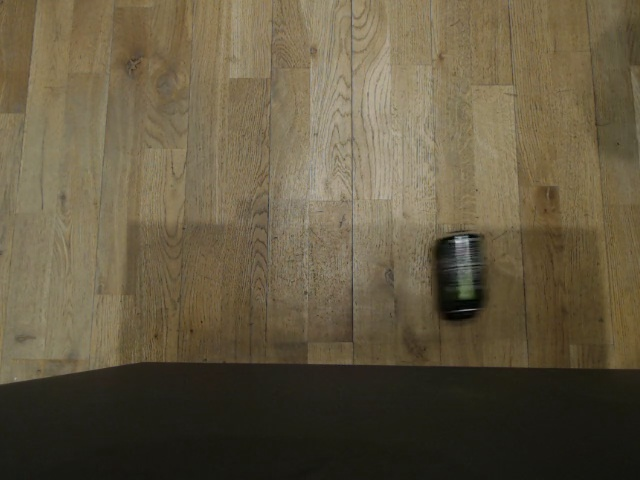beer: (432, 228, 490, 318)
